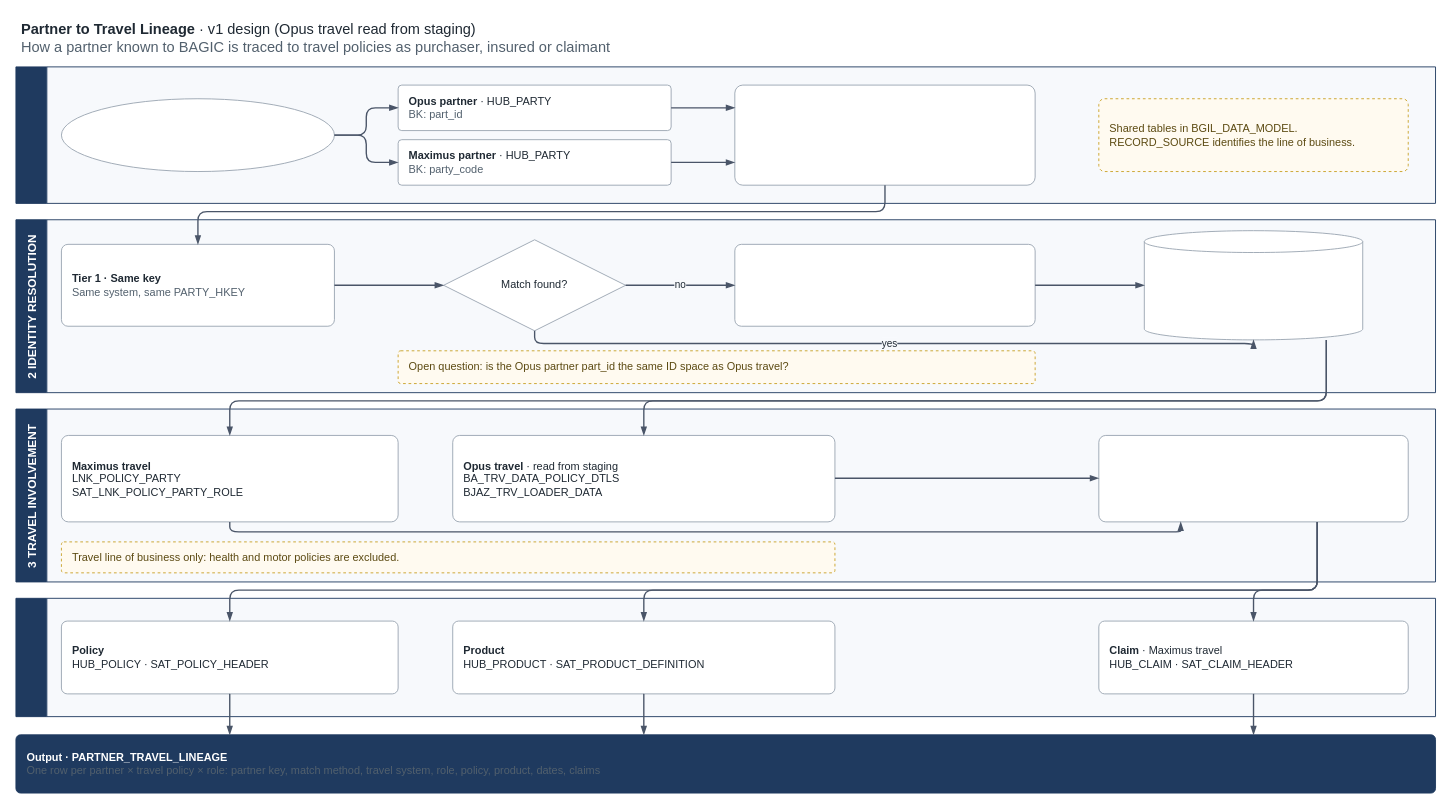
Some shapes in this 1451 by 809 pixel diagram are drawn without their labels. Here are the shapes that lost their labels. From the top down, the box of each, then its label:
(61, 98, 334, 172): Partner party code / part_id
(15, 66, 1436, 203): 1 PARTNER
(734, 84, 1035, 185): Party attributes SAT_PARTY_IDENTIFICATION SAT_COMMON_CONTACT SAT_PARTY_IDENTITY
(734, 243, 1035, 326): Tier 2 · Cross-system PAN / Aadhaar / Passport / GSTIN
(1143, 230, 1363, 340): PARTY_XREF partner key, travel key, match method
(1098, 435, 1408, 522): Role Purchaser · Insured · Claimant
(15, 597, 1436, 717): 4 POLICY AND PRODUCT
